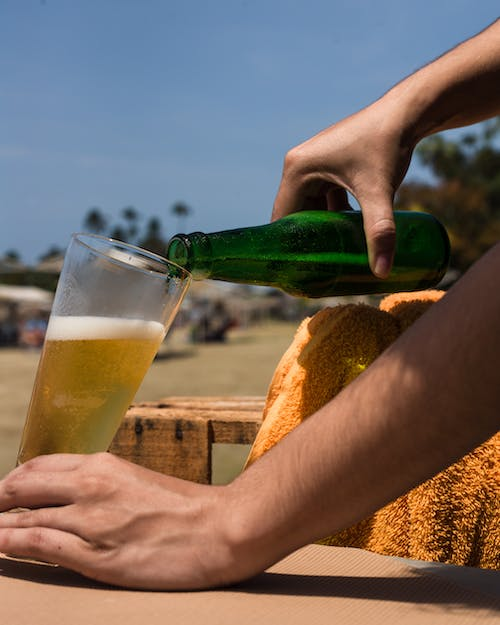alcohol: (12, 229, 193, 468), (163, 209, 453, 300)
